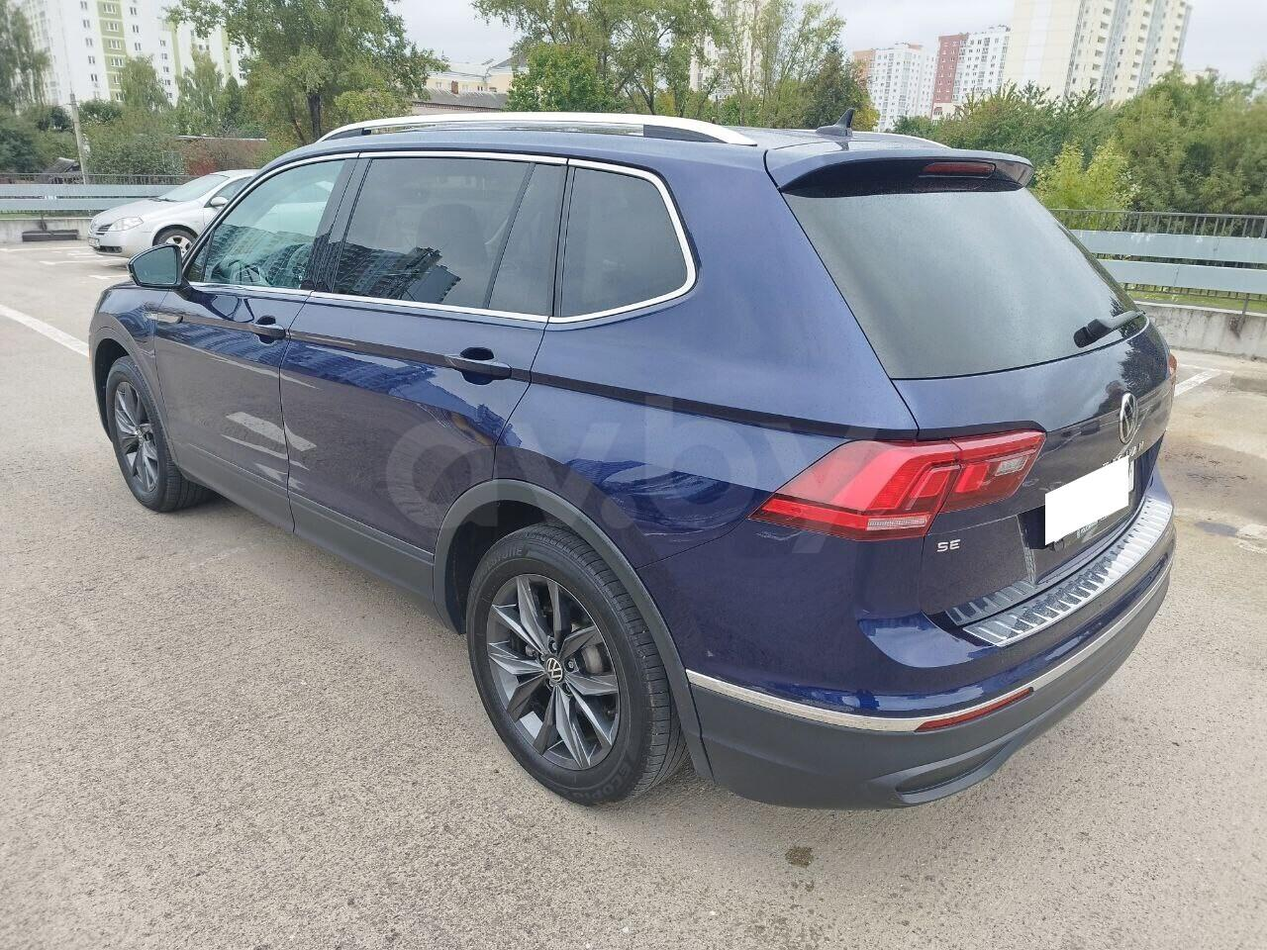Tiguan_2020-2024: (83, 113, 1188, 814)
